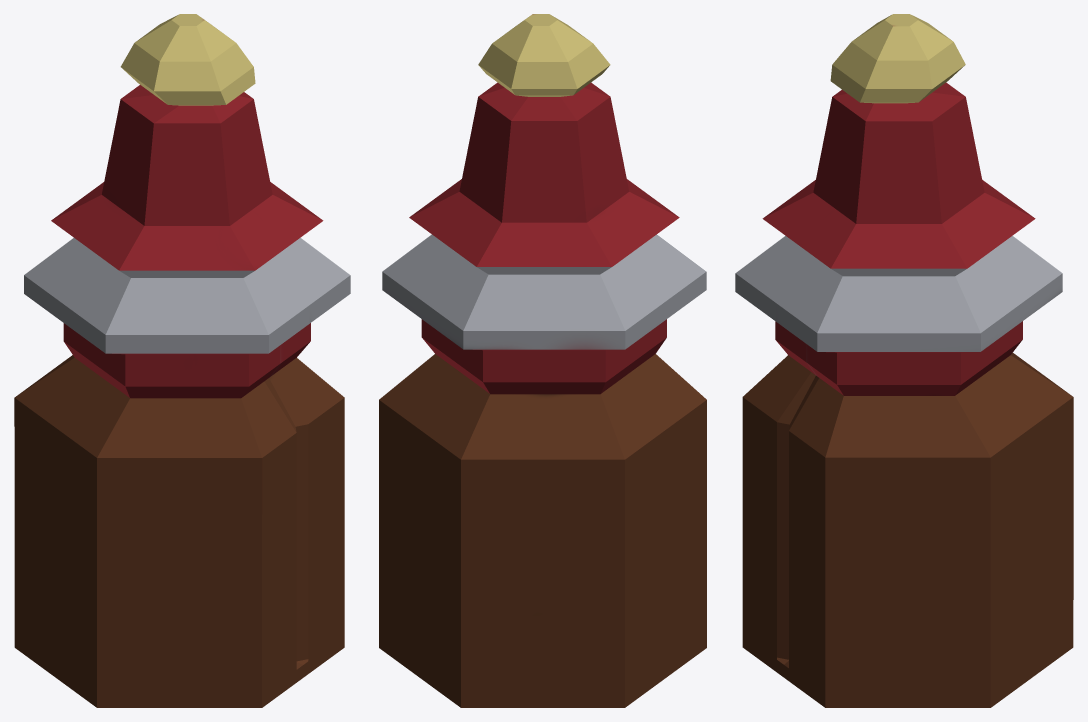
File: minitemplo-fechado.fbx
3 renders of one model, left to right at view 1: azimuth 30°, elevation 25°; view 2: azimuth 150°, elevation 25°; view 3: azimuth 270°, elevation 25°, orthographic.
Parts seen in each view (by area): view 1: Cylinder; view 2: Cylinder; view 3: Cylinder.
Boxes of the visible parts, x1,y1,x2,y2 form: Cylinder: (14,14,350,707); Cylinder: (379,14,706,707); Cylinder: (735,14,1073,707).
Bounding box in the file's own units: 148 × 358 × 174.
Materials: 1 (1 with a texture image).
